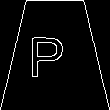P_N: (36, 30, 74, 80)
